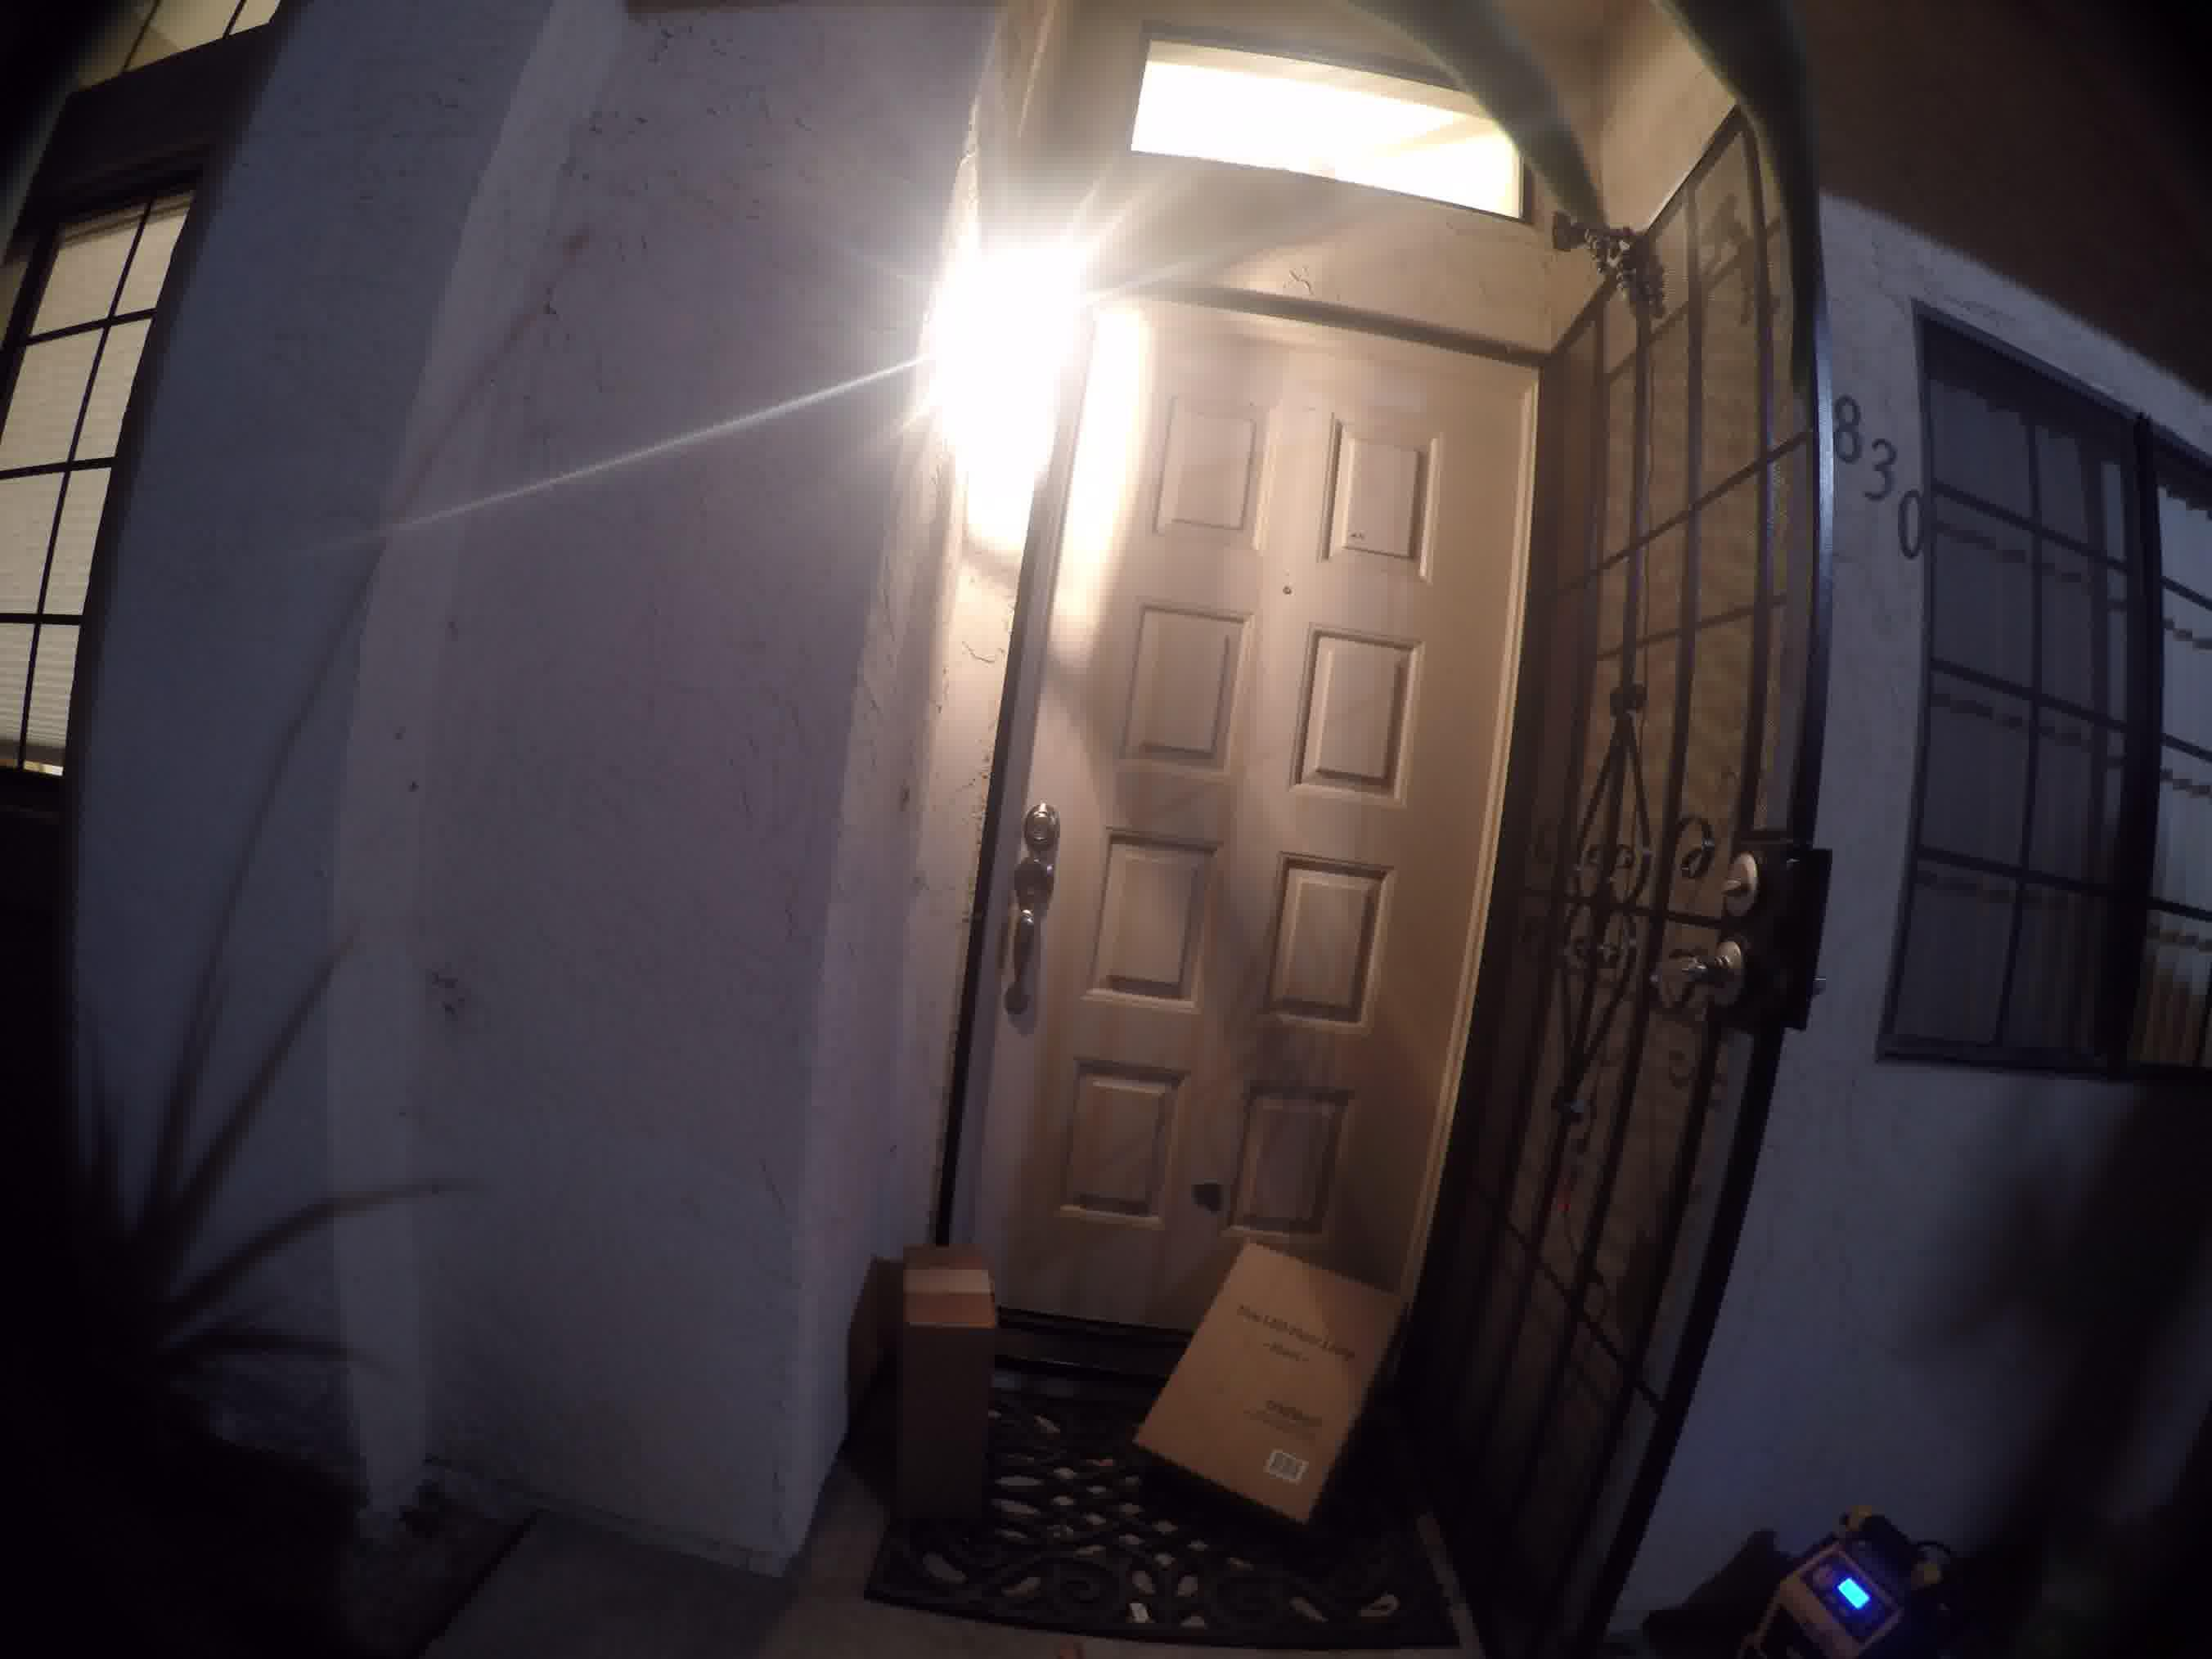box: (1125, 1223, 1404, 1539), (885, 1234, 1019, 1525)
